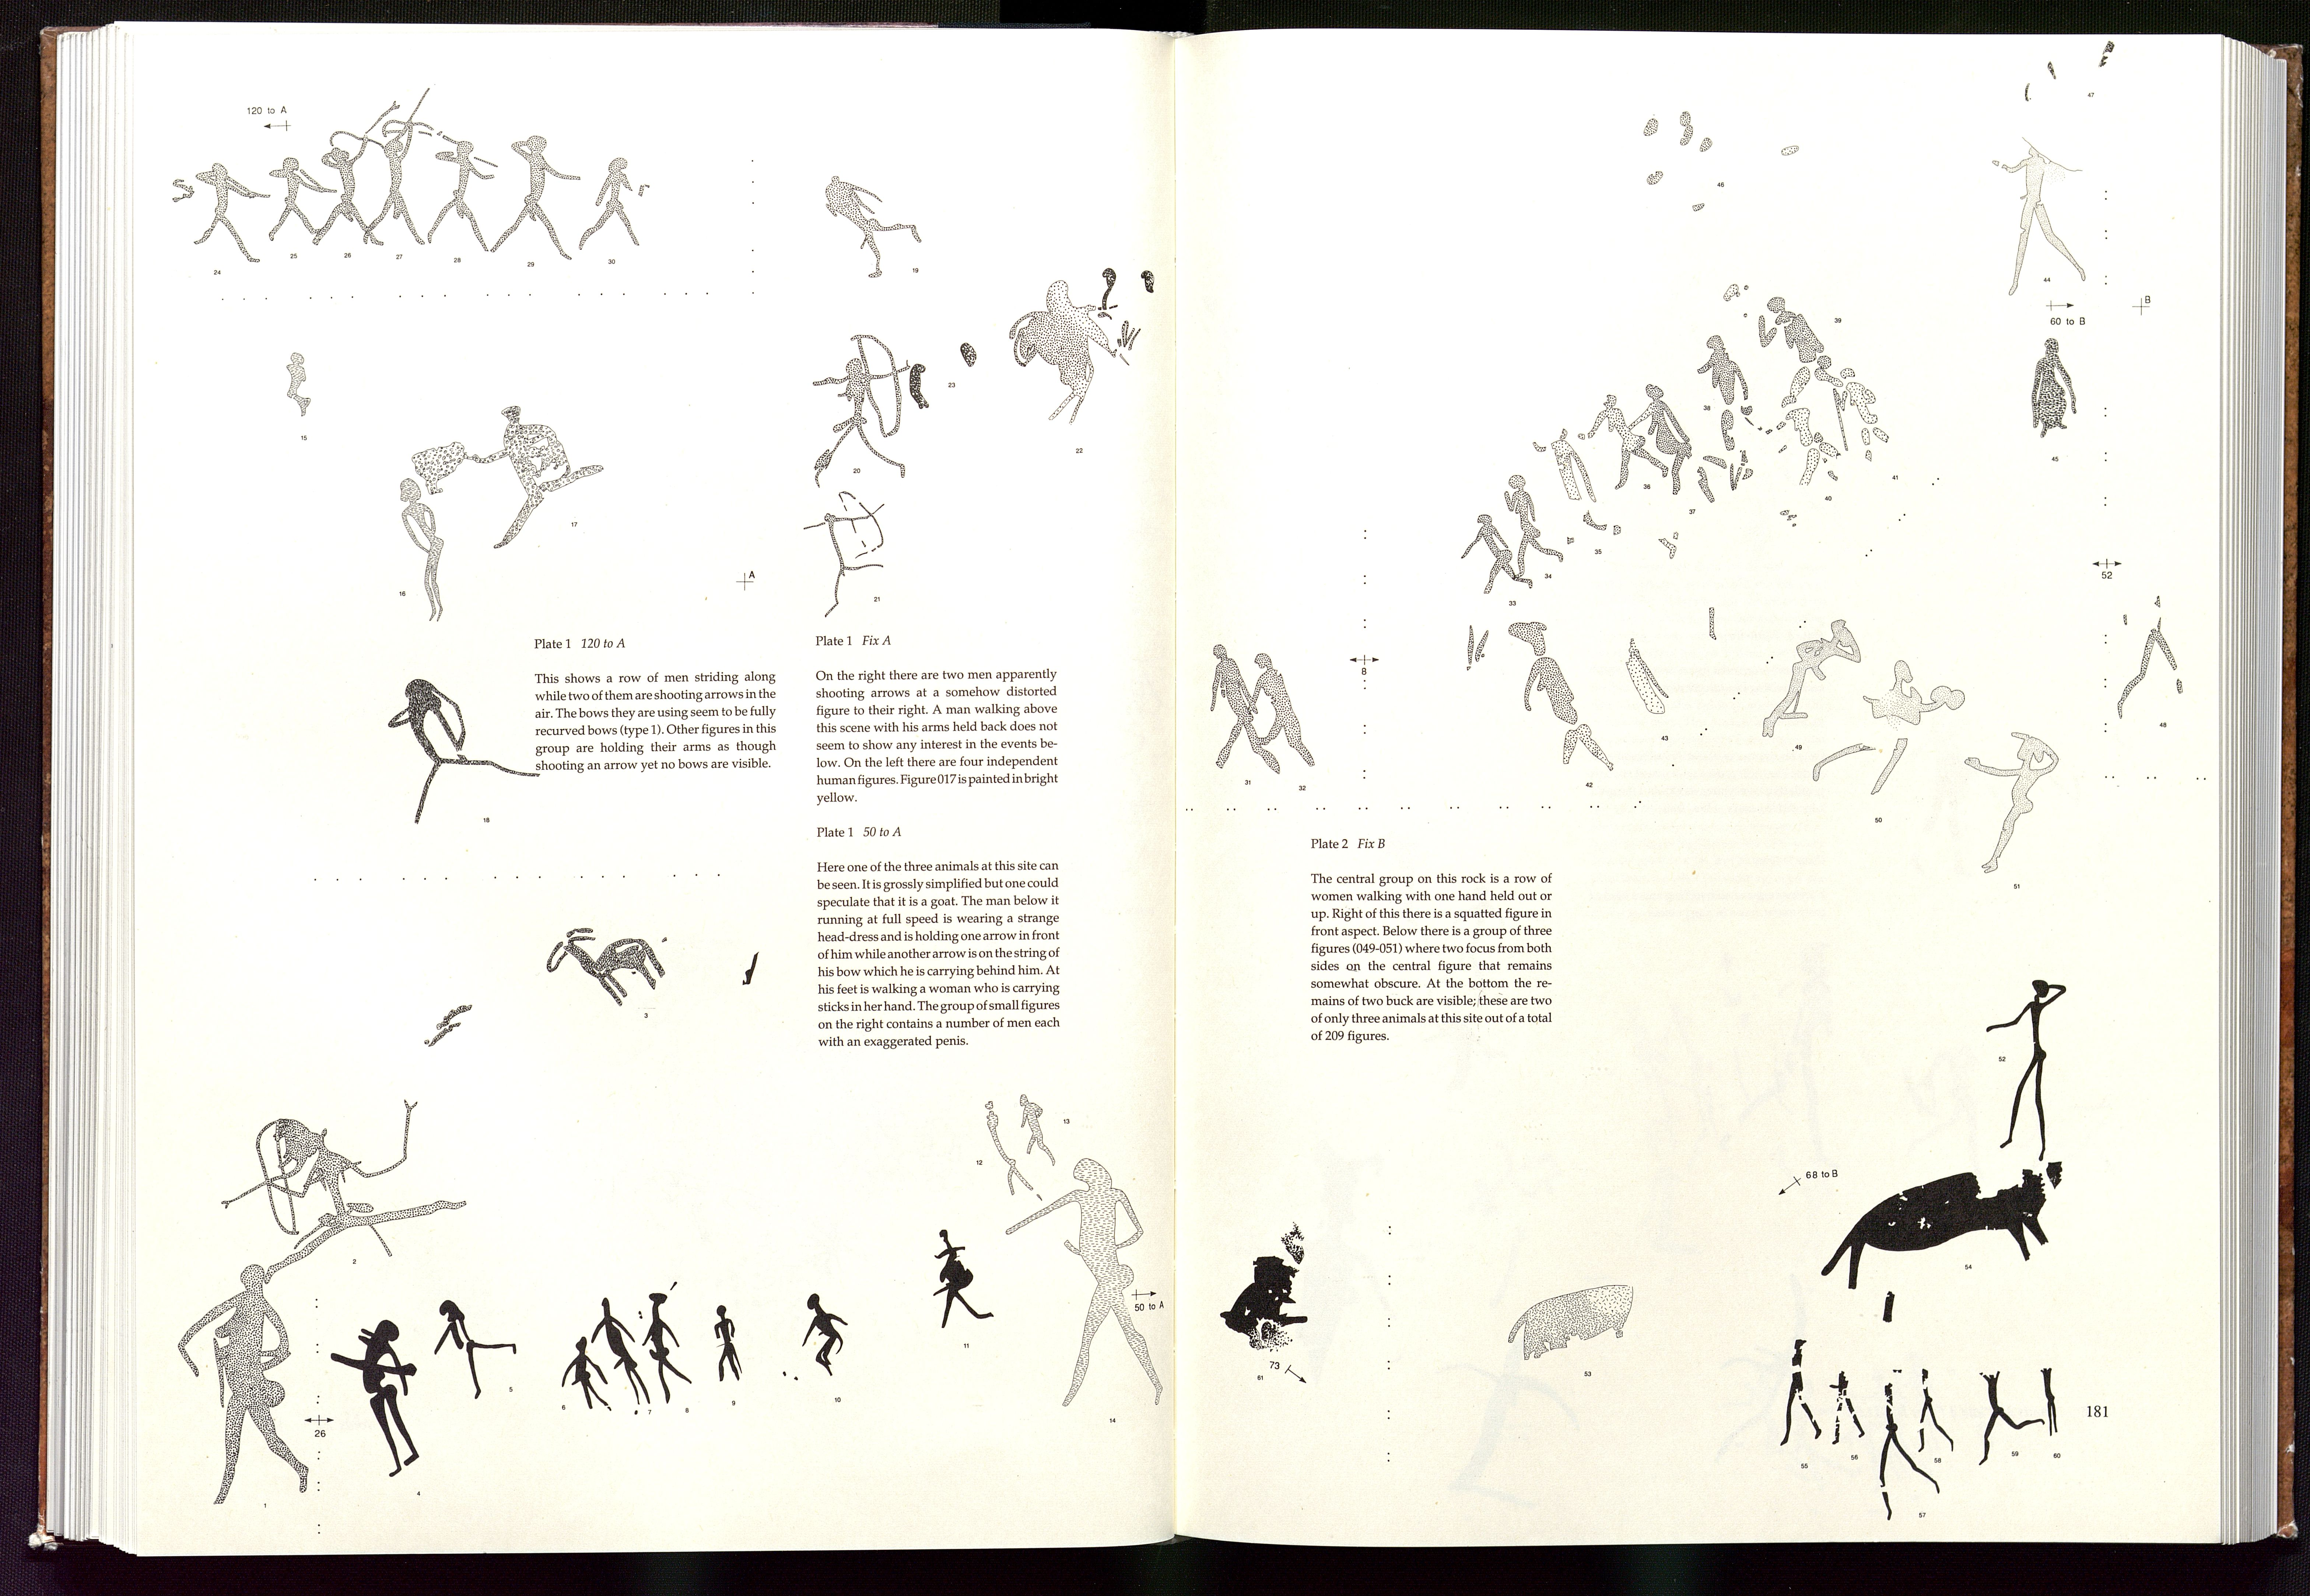animal: (1817, 1161, 2081, 1327), (1504, 1281, 1636, 1364), (544, 926, 667, 1009)
human: (220, 1098, 470, 1281), (1006, 1157, 1165, 1406), (174, 1263, 310, 1506), (389, 677, 541, 828), (1988, 137, 2089, 298), (1507, 620, 1614, 771), (1694, 331, 1792, 494), (1985, 978, 2068, 1162), (331, 1315, 418, 1481), (1964, 732, 2061, 875), (810, 359, 912, 490), (1760, 618, 1861, 745), (1749, 290, 1853, 406), (492, 133, 583, 267), (361, 89, 433, 251), (1628, 385, 1730, 497), (799, 503, 887, 625), (824, 173, 923, 278), (1532, 429, 1627, 540), (1878, 1366, 1941, 1521), (1208, 645, 1280, 777), (1578, 392, 1671, 489), (312, 130, 388, 250), (432, 1298, 518, 1402), (193, 161, 270, 268), (1248, 653, 1317, 774), (427, 140, 497, 255), (397, 478, 447, 627), (589, 1298, 656, 1411), (578, 154, 650, 256), (977, 1095, 1042, 1203), (1828, 365, 1893, 465), (1978, 1371, 2047, 1465), (1504, 473, 1564, 578), (268, 157, 340, 244), (1461, 514, 1535, 595), (935, 1231, 993, 1332), (643, 1293, 693, 1406), (2027, 336, 2081, 442), (1779, 1336, 1823, 1449), (799, 1293, 850, 1381), (561, 1337, 615, 1414), (1916, 1367, 1955, 1455), (1017, 1093, 1061, 1171), (1828, 1369, 1866, 1450), (713, 1305, 742, 1383), (284, 351, 311, 418), (2040, 1366, 2060, 1435)
